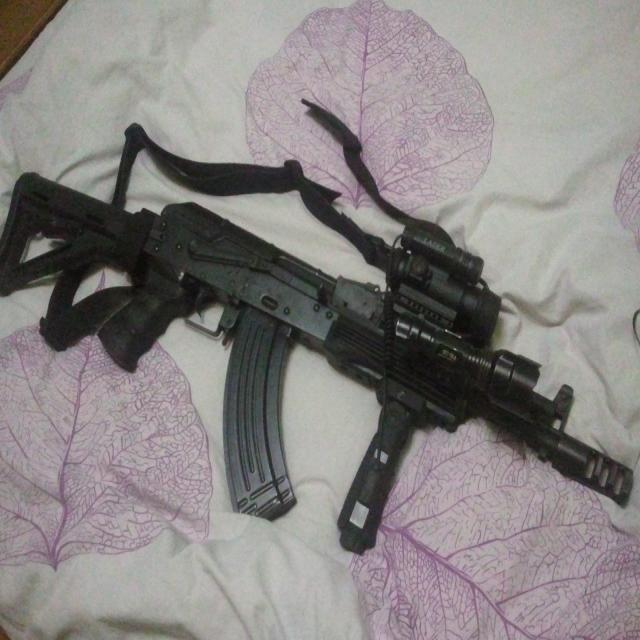firearm: (0, 167, 636, 557)
